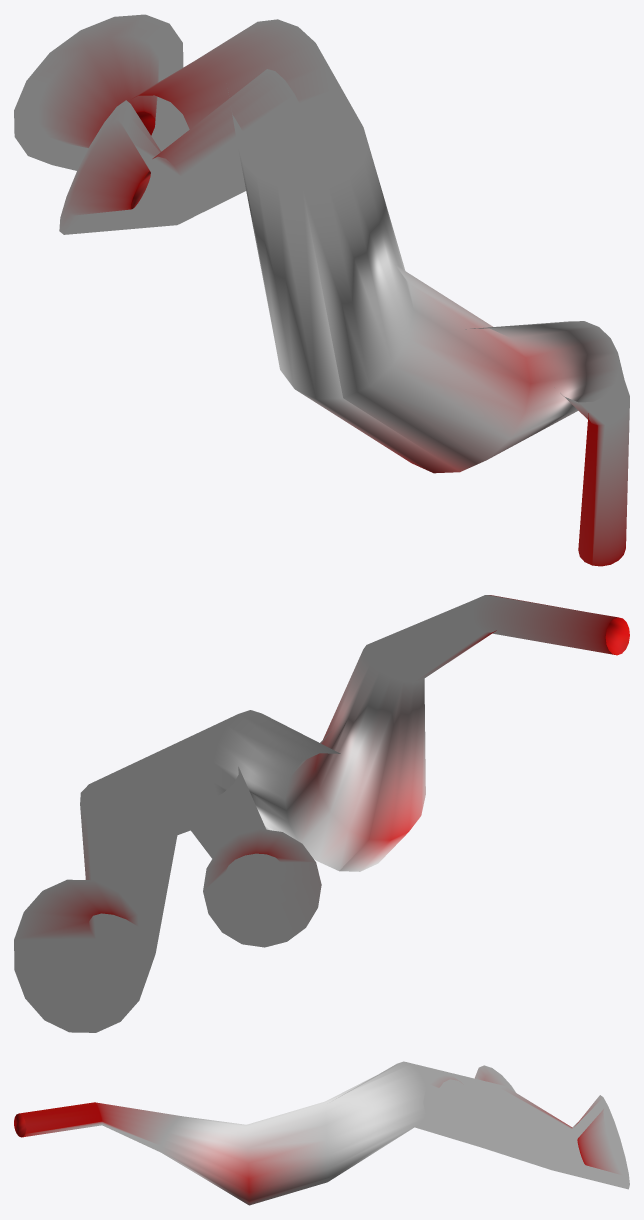
File: darkslurper.glb
3 renders of one model, top to bottom at view 1: azimuth 30°, elevation 25°; view 2: azimuth 150°, elevation 25°; view 3: azimuth 270°, elevation 25°, orthographic. The views are drawn at different scales.
Visible parts, largest first — view 1: Darkslurper; view 2: Darkslurper; view 3: Darkslurper.
Boxes of the visible parts, x1,y1,x2,y2 form: Darkslurper: [14, 14, 629, 566]; Darkslurper: [14, 595, 629, 1032]; Darkslurper: [14, 1061, 629, 1205].
Bounding box in the file's own units: 0.3814 × 0.3448 × 1.42.
